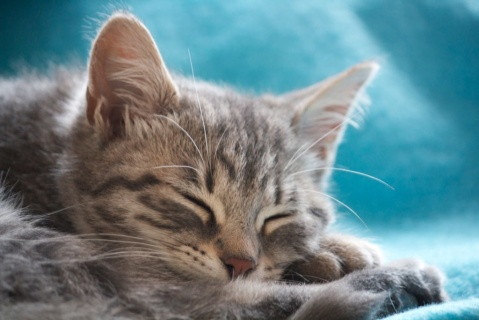Cat: (0, 0, 452, 319)
